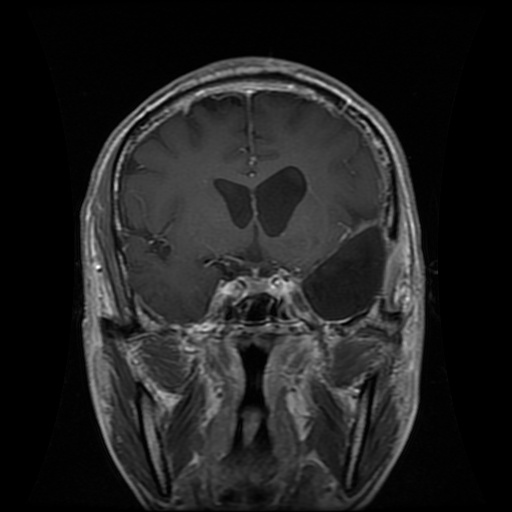glioma: (301, 213, 399, 322)
